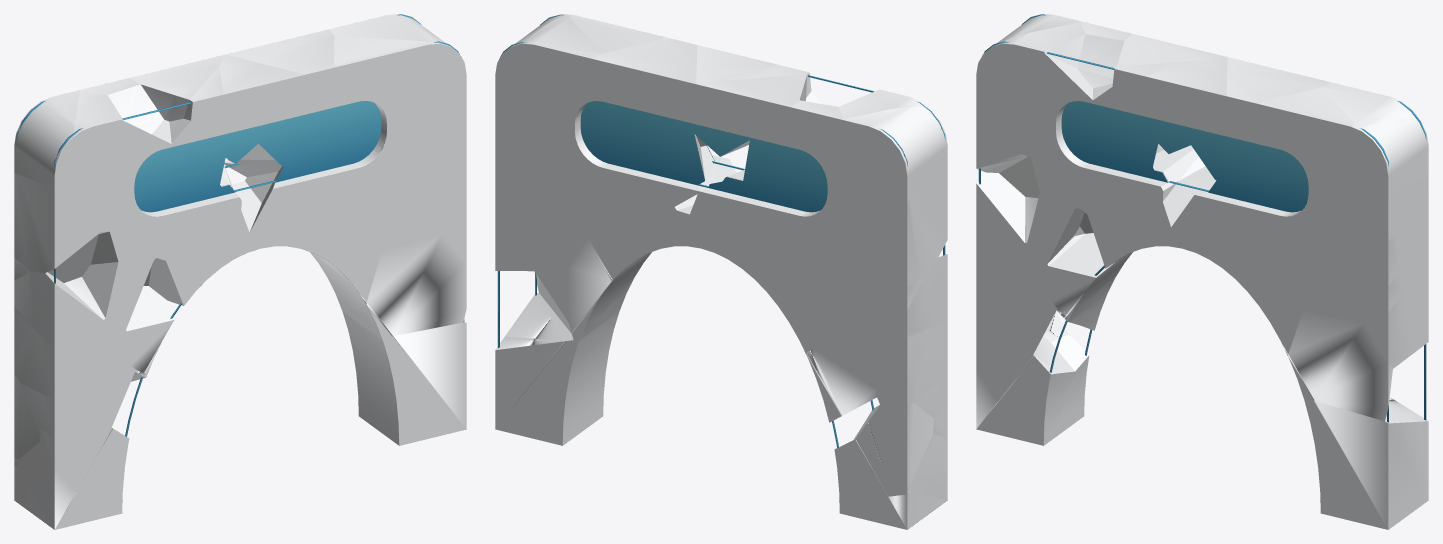
The model's file is ArchStages.fbx.
The picture shows the model from 3 angles, left to right: view 1: azimuth 30°, elevation 25°; view 2: azimuth 150°, elevation 25°; view 3: azimuth 330°, elevation 25°; orthographic projection.
Visible parts, largest first — view 1: Arch_Stage_04, Arch_Stage_09, Arch_Stage_07, Arch_Stage_08, Arch_Stage_06, Arch_Stage_02, Arch_Stage_03, Arch_Stage_01, Arch_Stage_05, Arch_Stage_00; view 2: Arch_Stage_04, Arch_Stage_03, Arch_Stage_02, Arch_Stage_07, Arch_Stage_05, Arch_Stage_09, Arch_Stage_01, Arch_Stage_06, Arch_Stage_08, Arch_Stage_00; view 3: Arch_Stage_02, Arch_Stage_04, Arch_Stage_08, Arch_Stage_09, Arch_Stage_07, Arch_Stage_01, Arch_Stage_06, Arch_Stage_03, Arch_Stage_05, Arch_Stage_00.
Boxes of the visible parts, bbox=[...] form: Arch_Stage_04: bbox=[14, 29, 466, 445]; Arch_Stage_09: bbox=[14, 75, 314, 529]; Arch_Stage_07: bbox=[14, 35, 466, 459]; Arch_Stage_08: bbox=[14, 91, 412, 529]; Arch_Stage_06: bbox=[14, 66, 433, 439]; Arch_Stage_02: bbox=[14, 26, 466, 466]; Arch_Stage_03: bbox=[14, 90, 466, 337]; Arch_Stage_01: bbox=[82, 54, 381, 374]; Arch_Stage_05: bbox=[146, 14, 434, 207]; Arch_Stage_00: bbox=[16, 14, 464, 436]; Arch_Stage_04: bbox=[495, 39, 947, 445]; Arch_Stage_03: bbox=[495, 102, 947, 345]; Arch_Stage_02: bbox=[495, 14, 911, 502]; Arch_Stage_07: bbox=[495, 14, 933, 486]; Arch_Stage_05: bbox=[503, 15, 827, 266]; Arch_Stage_09: bbox=[596, 100, 947, 499]; Arch_Stage_01: bbox=[567, 45, 845, 352]; Arch_Stage_06: bbox=[643, 65, 947, 418]; Arch_Stage_08: bbox=[773, 89, 947, 529]; Arch_Stage_00: bbox=[497, 14, 945, 447]; Arch_Stage_02: bbox=[1001, 110, 1428, 421]; Arch_Stage_04: bbox=[976, 57, 1428, 529]; Arch_Stage_08: bbox=[976, 22, 1333, 445]; Arch_Stage_09: bbox=[976, 21, 1242, 431]; Arch_Stage_07: bbox=[1031, 34, 1428, 342]; Arch_Stage_01: bbox=[1027, 56, 1303, 355]; Arch_Stage_06: bbox=[976, 60, 1355, 354]; Arch_Stage_03: bbox=[976, 14, 1428, 285]; Arch_Stage_05: bbox=[1079, 82, 1417, 202]; Arch_Stage_00: bbox=[978, 14, 1426, 422].
Bounding box in the file's own units: 2.35 × 2.15 × 0.4.
